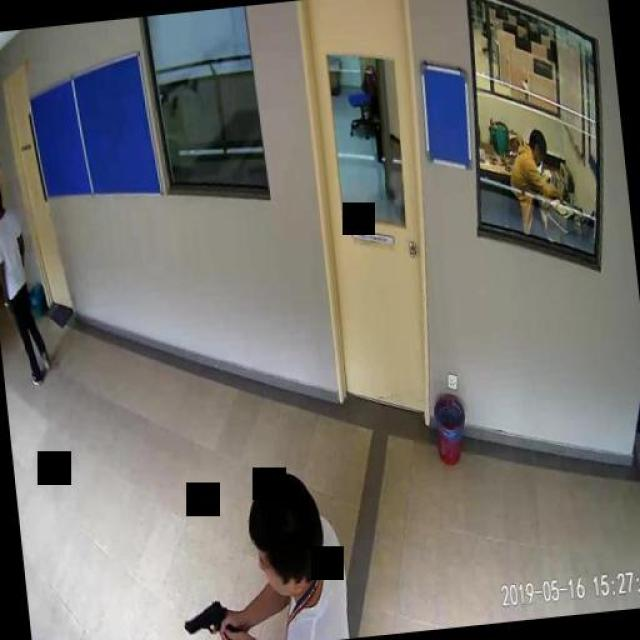gun: (180, 596, 235, 640)
